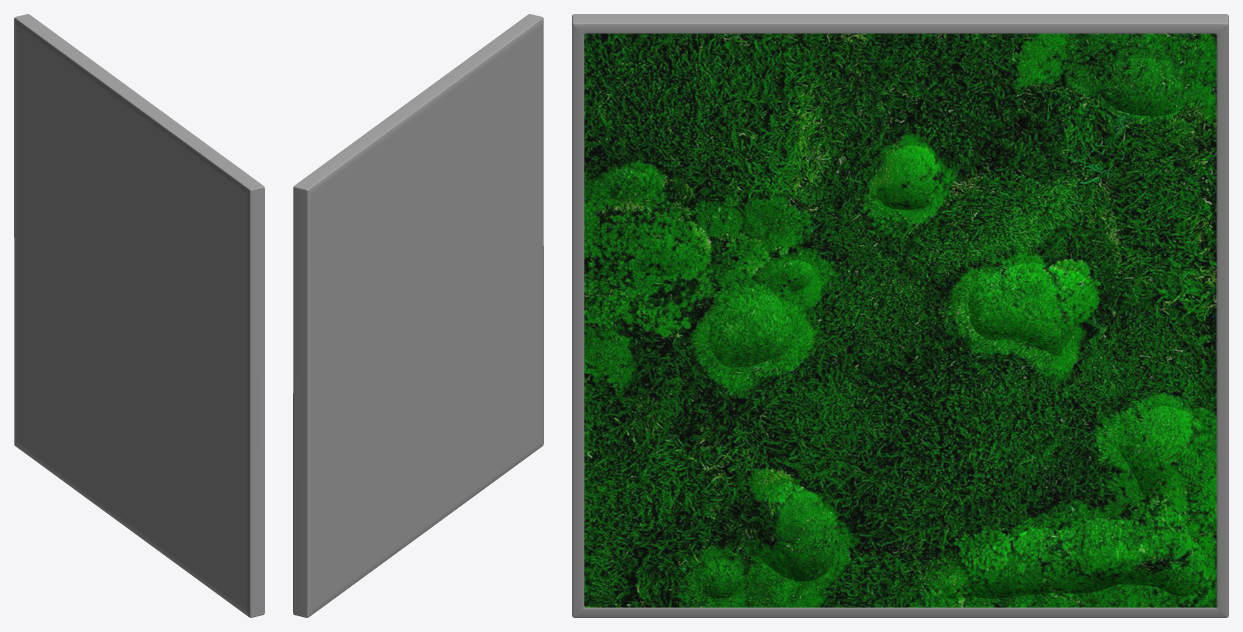
Rendered from Moosbild_Hugelmoos_800x800mm_white.fbx.
The picture shows the model from 3 angles, left to right: view 1: azimuth 30°, elevation 25°; view 2: azimuth 150°, elevation 25°; view 3: azimuth 270°, elevation 25°; orthographic projection. The views are drawn at different scales.
Visible parts, largest first — view 1: edge; view 2: edge; view 3: moss_low, moss8, edge.
Part boxes in pixels (x1,y1,x2,y2): edge: (14, 14, 264, 617); edge: (293, 14, 543, 617); moss_low: (584, 34, 1216, 607); moss8: (585, 33, 1215, 598); edge: (572, 14, 1228, 617).
Bounding box in the file's own units: 5.03 × 80 × 80.
Materials: 2 (1 with a texture image).
